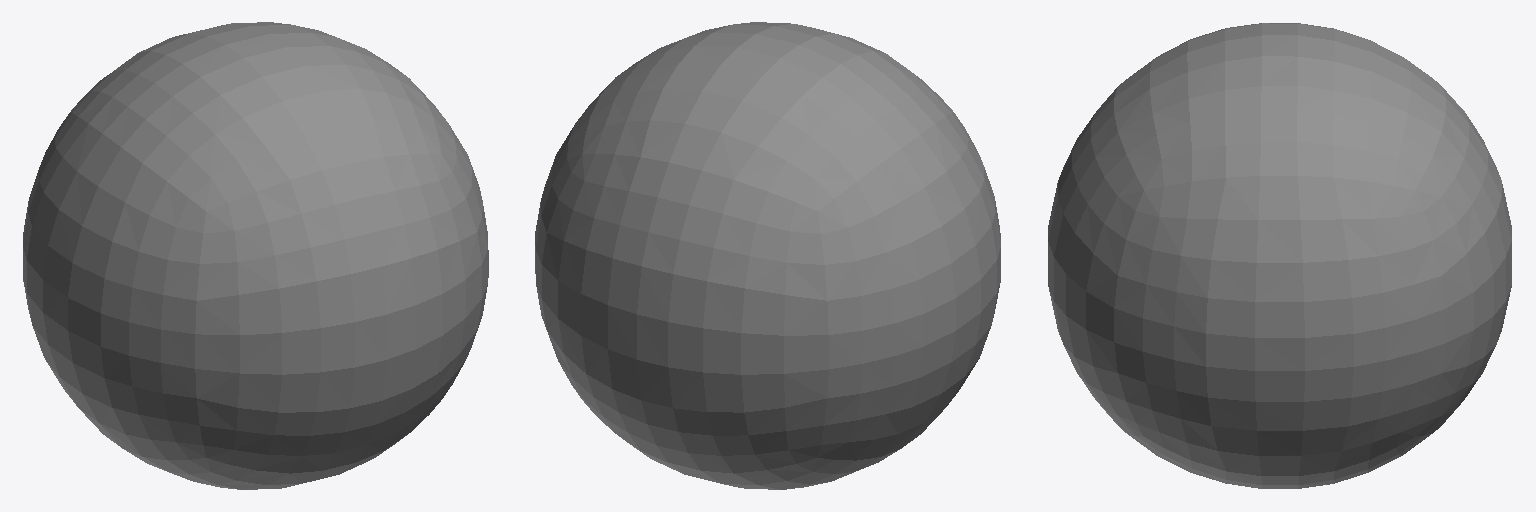
The model's file is volleyball.obj.
3 views of the same model, side by side, from view 1: azimuth 30°, elevation 25°; view 2: azimuth 150°, elevation 25°; view 3: azimuth 270°, elevation 25° (orthographic).
Visible parts, largest first — view 1: volleyball; view 2: volleyball; view 3: volleyball.
Part boxes in pixels (bbox=[...]): volleyball: bbox=[23, 22, 488, 489]; volleyball: bbox=[535, 22, 1000, 489]; volleyball: bbox=[1048, 23, 1511, 488].
Bounding box in the file's own units: 23.99 × 24 × 24.01.